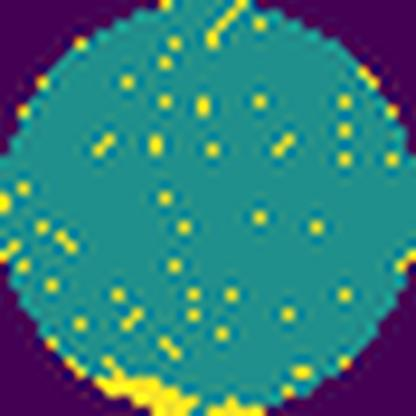Edge-Loc: (91, 352, 203, 415), (203, 396, 267, 416)
